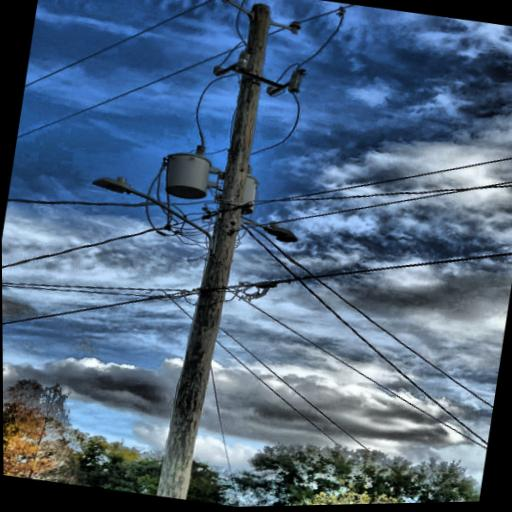insulator: (287, 18, 303, 31), (216, 0, 234, 1)
pole: (118, 0, 285, 503)
street light: (80, 171, 226, 259), (231, 216, 300, 245)
transformer: (156, 145, 214, 203), (215, 168, 264, 218)
